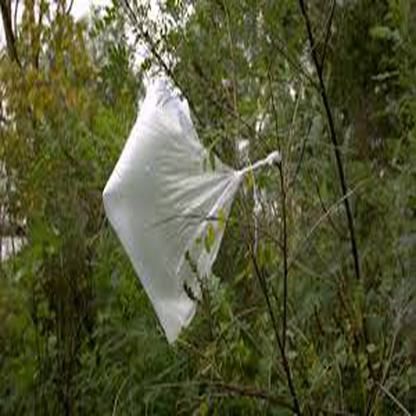plastic bag: (105, 81, 282, 344)
